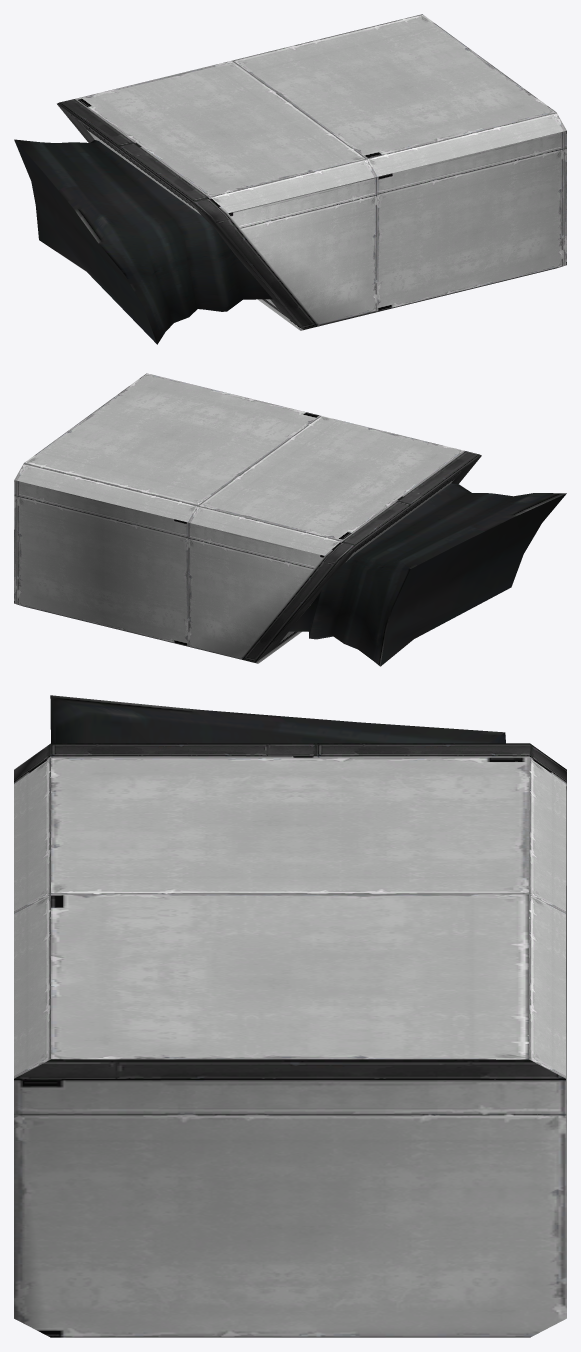
Rendered from DockingArm_07_end.FBX.
3 renders of one model, top to bottom at view 1: azimuth 30°, elevation 25°; view 2: azimuth 150°, elevation 25°; view 3: azimuth 270°, elevation 25°, orthographic. The views are drawn at different scales.
Visible parts, largest first — view 1: DockingArm_07_end; view 2: DockingArm_07_end; view 3: DockingArm_07_end.
Boxes of the visible parts, box(x1,y1,x2,y2) form: DockingArm_07_end: box(14, 14, 566, 344); DockingArm_07_end: box(14, 373, 566, 666); DockingArm_07_end: box(14, 695, 566, 1337).
Bounding box in the file's own units: 12.48 × 4.06 × 7.32.
